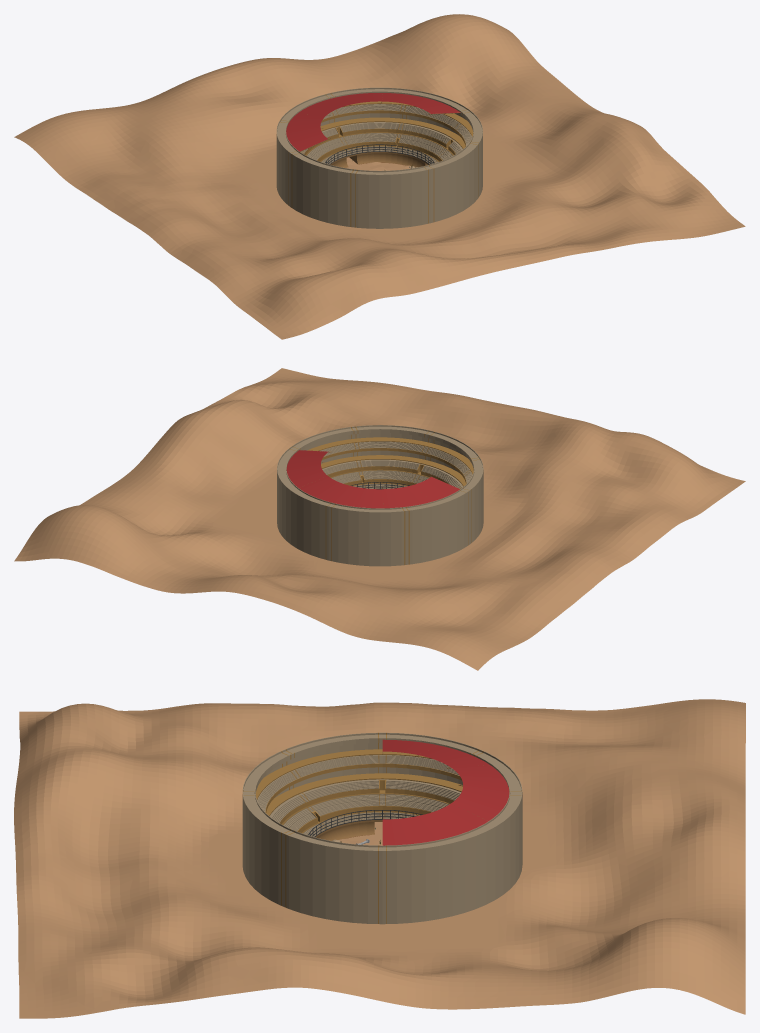
The model's file is FinalDetails.fbx.
The picture shows the model from 3 angles, top to bottom: view 1: azimuth 30°, elevation 25°; view 2: azimuth 150°, elevation 25°; view 3: azimuth 270°, elevation 25°; orthographic projection. The views are drawn at different scales.
Visible parts, largest first — view 1: Sand, Círculo, Círculo.142, Círculo.009, Círculo.012, Círculo.001; view 2: Sand, Círculo, Círculo.142, Círculo.009; view 3: Sand, Círculo, Círculo.142, Círculo.009, Círculo.012, Círculo.001.
Boxes of the visible parts, <box> form: Sand: <box>14,14,745,339</box>; Círculo: <box>276,87,482,228</box>; Círculo.142: <box>286,93,460,151</box>; Círculo.009: <box>320,101,473,148</box>; Círculo.012: <box>330,152,428,167</box>; Círculo.001: <box>325,144,434,164</box>; Sand: <box>14,368,745,670</box>; Círculo: <box>277,425,483,566</box>; Círculo.142: <box>286,450,459,508</box>; Círculo.009: <box>307,437,473,485</box>; Sand: <box>14,699,745,1018</box>; Círculo: <box>242,732,522,924</box>; Círculo.142: <box>382,739,509,845</box>; Círculo.009: <box>255,749,462,815</box>; Círculo.012: <box>315,820,382,840</box>; Círculo.001: <box>308,810,422,836</box>.
Size of the model in its own units: 33675 by 4901 by 33875.
